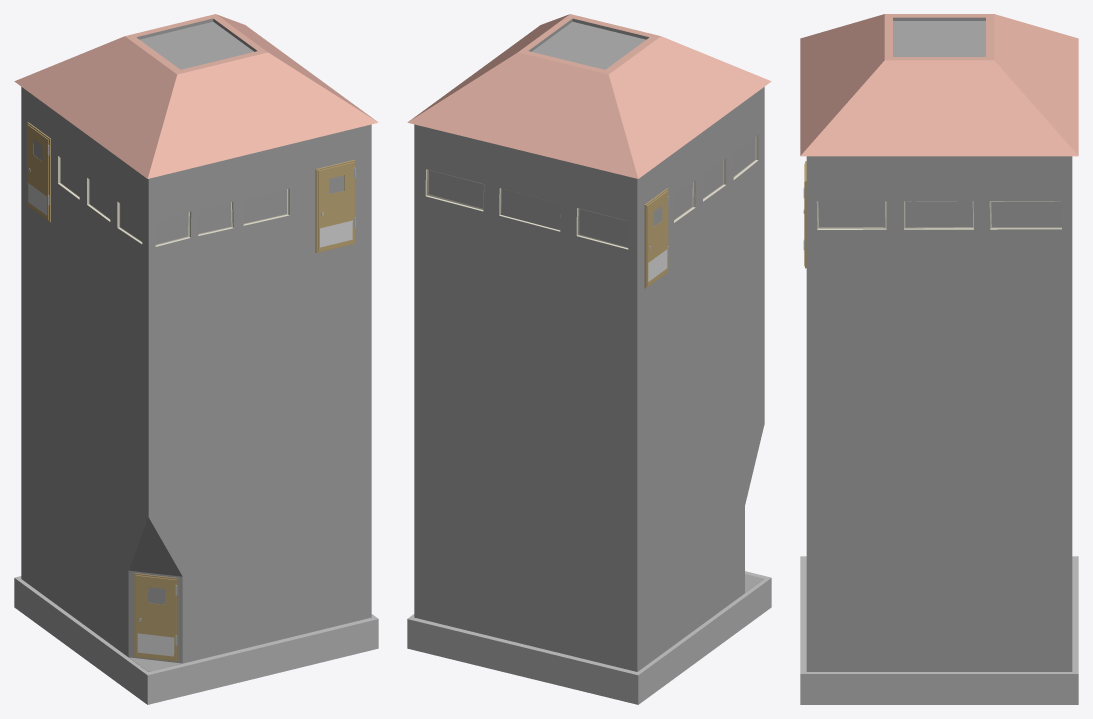
The model's file is wall2.fbx.
3 views of the same model, side by side, from view 1: azimuth 30°, elevation 25°; view 2: azimuth 150°, elevation 25°; view 3: azimuth 270°, elevation 25° (orthographic). The views are drawn at different scales.
Visible parts, largest first — view 1: Boole; view 2: Boole; view 3: Boole.
Part boxes in pixels (<box>): Boole: <box>14,14,378,704</box>; Boole: <box>407,14,771,704</box>; Boole: <box>800,14,1078,704</box>.
Size of the model in its own units: 600 by 1447 by 600.
